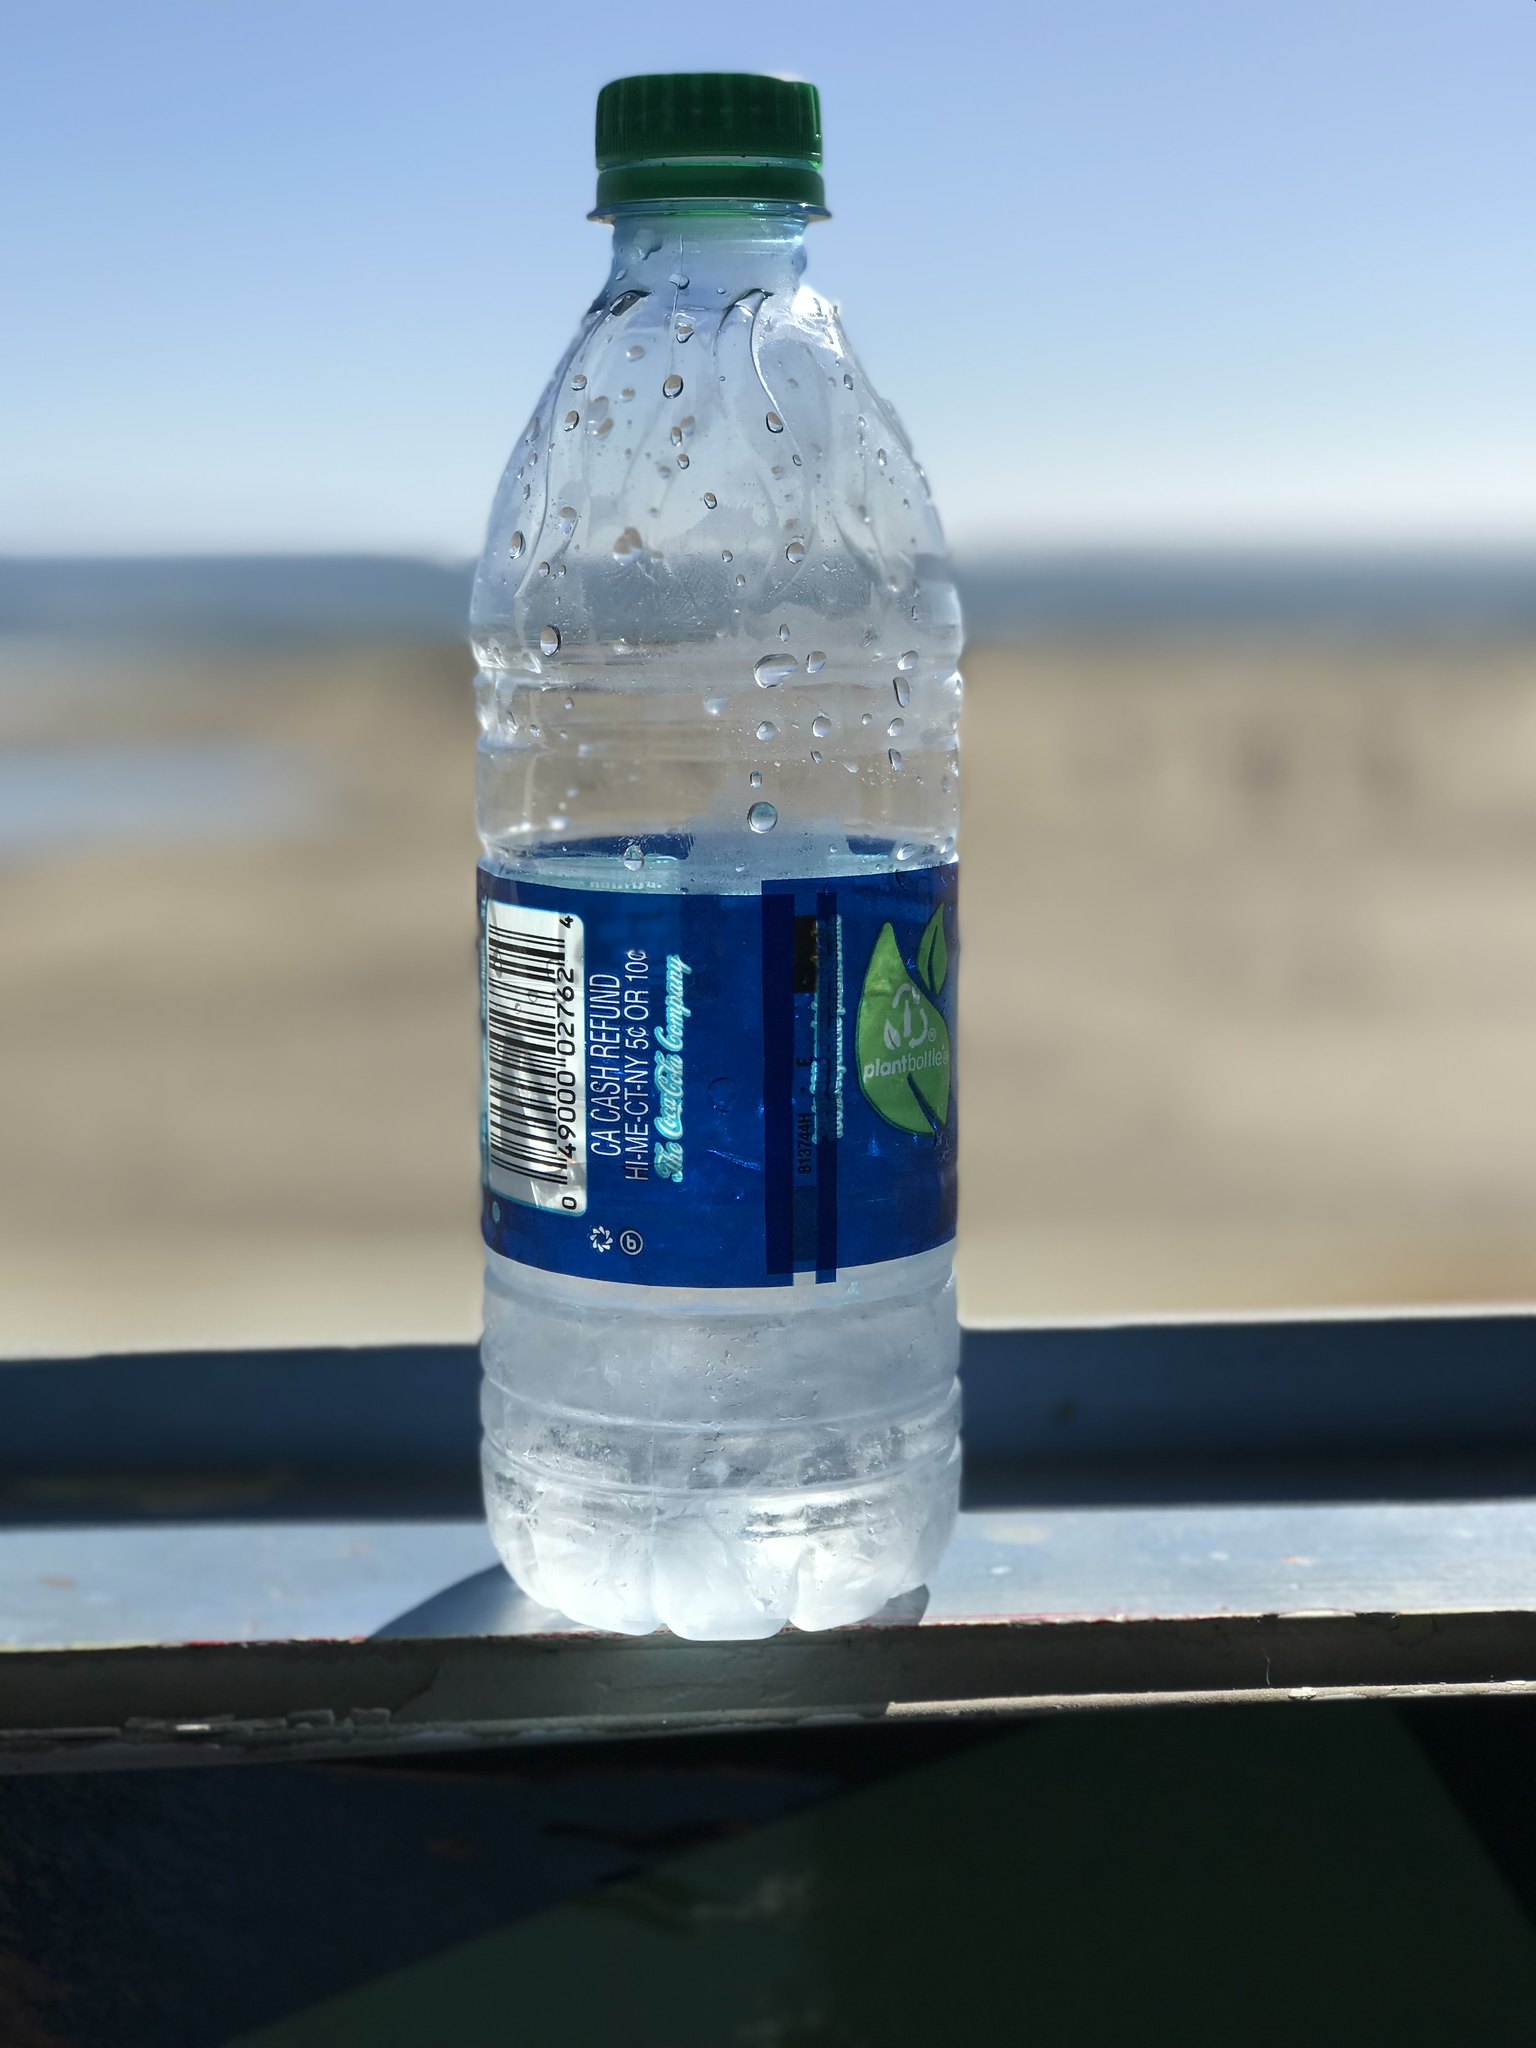Bottle: (342, 53, 1108, 1675)
